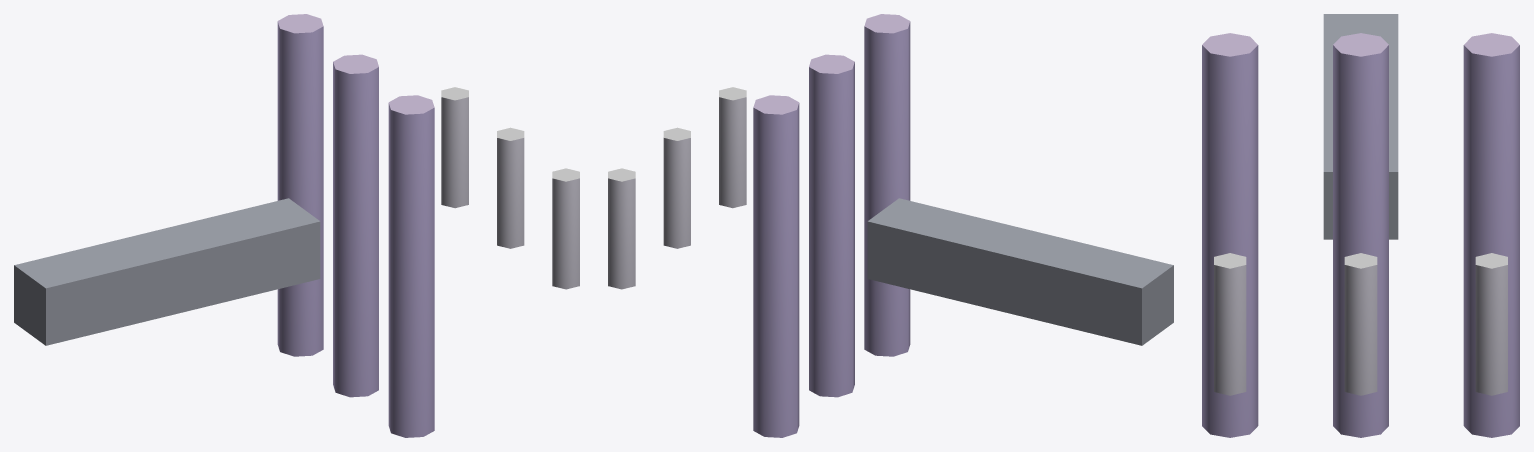
The model's file is t_tesla_b.glb.
3 renders of one model, left to right at view 1: azimuth 30°, elevation 25°; view 2: azimuth 150°, elevation 25°; view 3: azimuth 270°, elevation 25°, orthographic. The views are drawn at different scales.
Visible parts, largest first — view 1: t_tesla_b; view 2: t_tesla_b; view 3: t_tesla_b.
Boxes of the visible parts, bbox=[...] form: t_tesla_b: bbox=[14, 14, 579, 437]; t_tesla_b: bbox=[608, 14, 1173, 437]; t_tesla_b: bbox=[1202, 14, 1519, 437].
Size of the model in its own units: 1.44 by 0.9 by 0.68.
